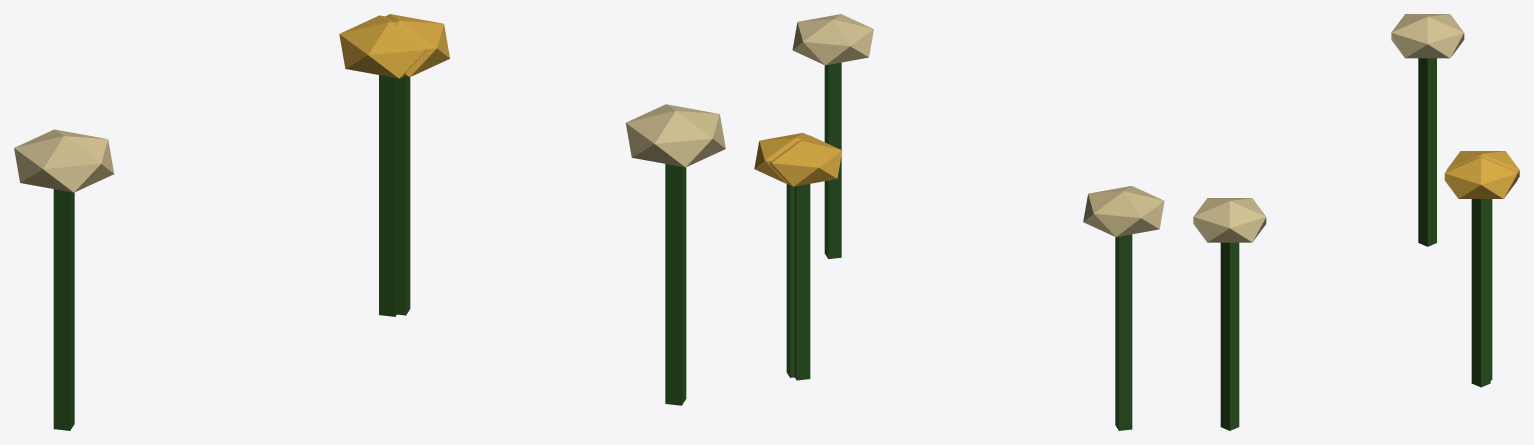
The model's file is Flowers.fbx.
3 views of the same model, side by side, from view 1: azimuth 30°, elevation 25°; view 2: azimuth 150°, elevation 25°; view 3: azimuth 270°, elevation 25° (orthographic). The views are drawn at different scales.
Visible parts, largest first — view 1: Flowers_Mesh; view 2: Flowers_Mesh; view 3: Flowers_Mesh.
Boxes of the visible parts, x1,y1,x2,y2 form: Flowers_Mesh: [14, 14, 725, 430]; Flowers_Mesh: [754, 14, 1164, 430]; Flowers_Mesh: [1193, 14, 1519, 430].
Size of the model in its own units: 0.3837 by 0.186 by 0.2432.
